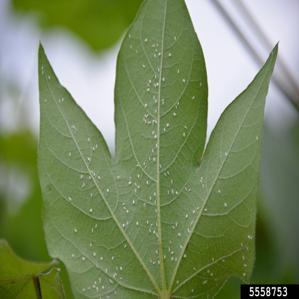Silverleaf whitefly: (0, 0, 299, 283)
